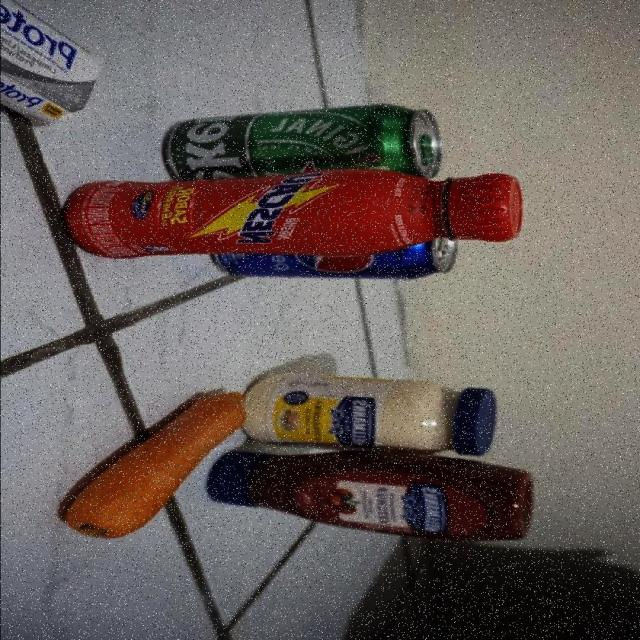BeerCan: (162, 107, 440, 173)
Carrot: (58, 394, 244, 536)
ChocolateMilk: (53, 172, 524, 254)
Ketchup: (213, 453, 529, 542)
Mayonnaise: (241, 376, 495, 458)
Soap: (0, 0, 101, 122)
SodaCan: (213, 248, 460, 281)
